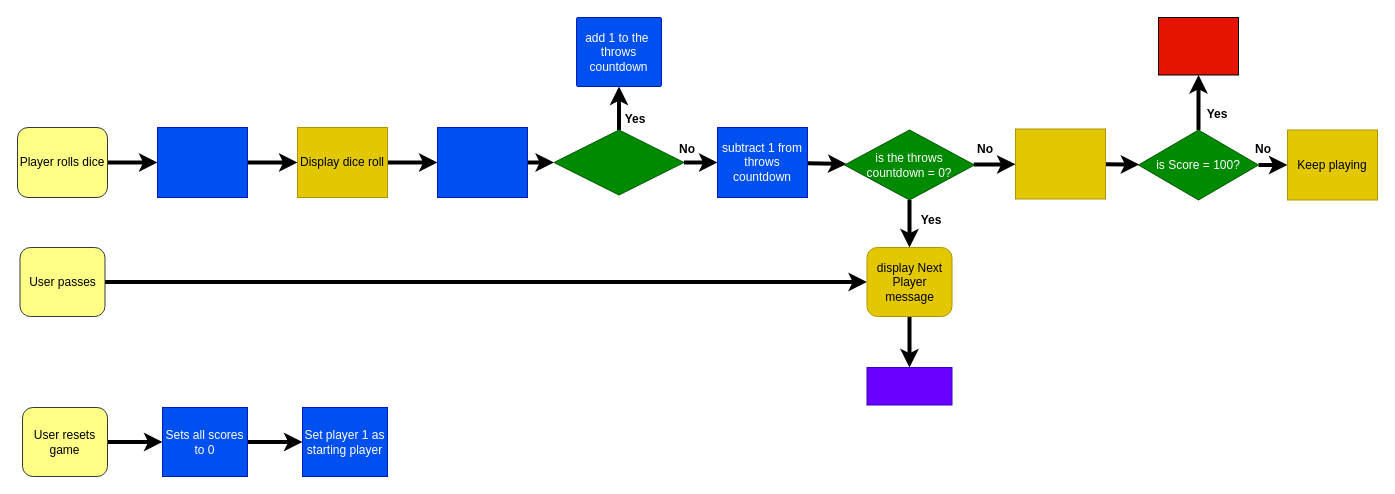
This 1395x494 diagram has some shape labels left out. Each missing label, with the centre of its shape:
"Add dice roll to current score" belongs at point (482, 162).
"Current Player wins!" belongs at point (1198, 45).
"display new score" belongs at point (1060, 163).
"Generate random number" belongs at point (202, 162).
"is the dice number = 6?" belongs at point (618, 162).
"Switch player" belongs at point (909, 385).
